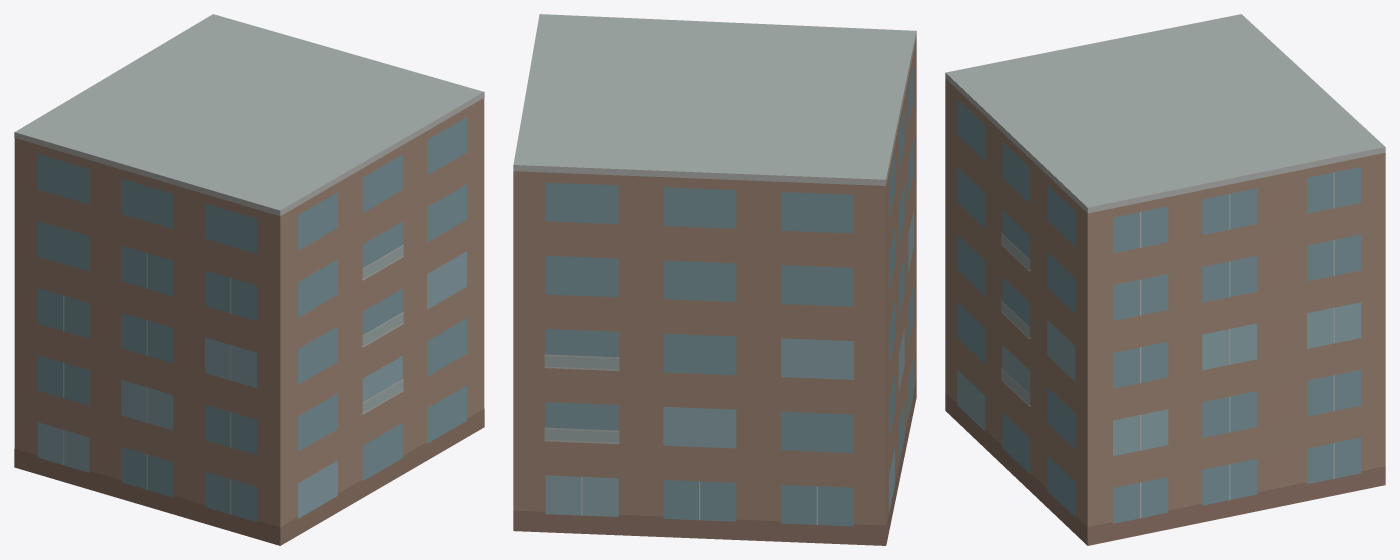
Rendered from survey-upis-32746008.glb.
3 views of the same model, side by side, from view 1: azimuth 30°, elevation 25°; view 2: azimuth 150°, elevation 25°; view 3: azimuth 270°, elevation 25° (orthographic). The views are drawn at different scales.
Parts seen in each view (by area): view 1: survey-upis-32746008.tmp; view 2: survey-upis-32746008.tmp; view 3: survey-upis-32746008.tmp.
Part boxes in pixels (box(x1,y1,x2,y2)): survey-upis-32746008.tmp: box(14, 14, 484, 545); survey-upis-32746008.tmp: box(513, 14, 916, 545); survey-upis-32746008.tmp: box(945, 14, 1385, 545).
Size of the model in its own units: 17.64 by 14.35 by 16.94.
